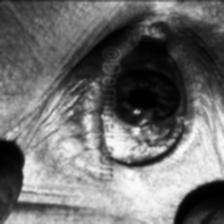Toxin: (123, 16, 224, 72), (146, 102, 212, 168)
